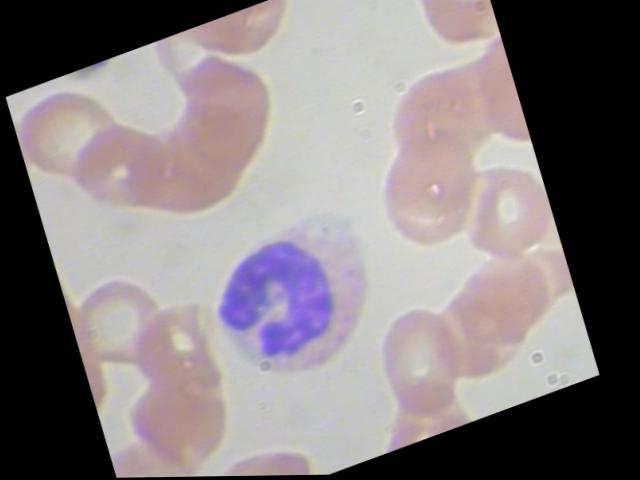Platelets: (85, 54, 126, 81)
Red Blood Cells: (3, 66, 135, 198), (442, 148, 571, 279), (62, 260, 183, 386), (363, 298, 484, 423), (374, 392, 489, 457)
White Blood Cells: (179, 183, 427, 416)
